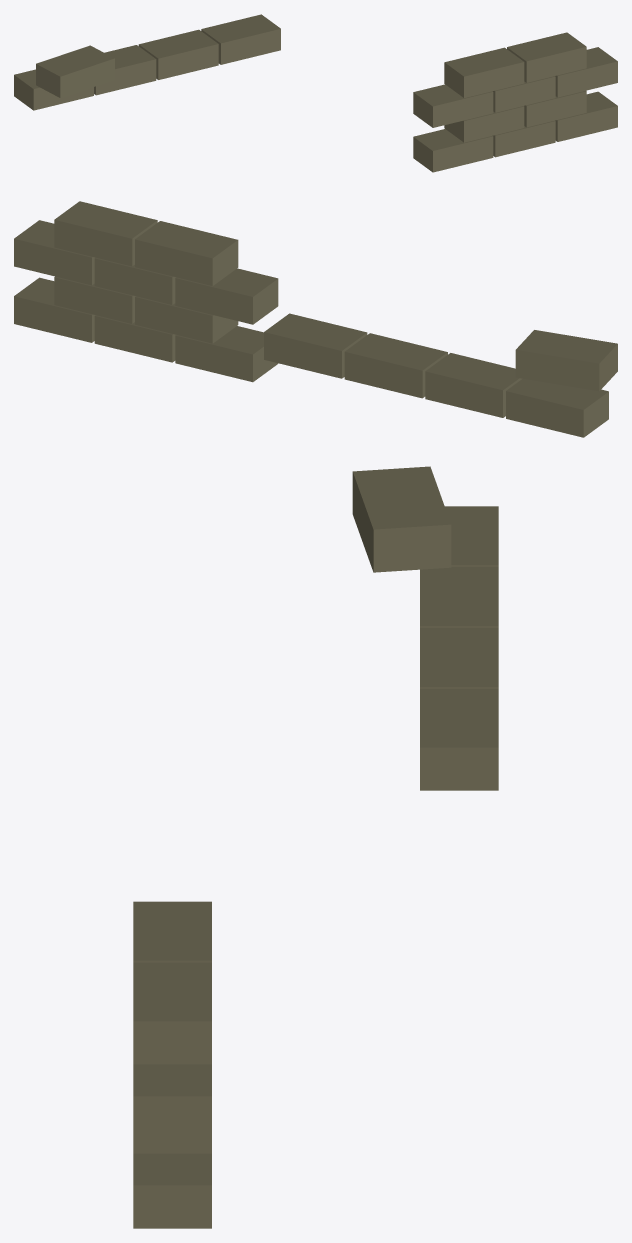
File: SM_ObraSacos_v0_8m_LOD0.fbx
3 renders of one model, top to bottom at view 1: azimuth 30°, elevation 25°; view 2: azimuth 150°, elevation 25°; view 3: azimuth 270°, elevation 25°, orthographic. The views are drawn at different scales.
Parts seen in each view (by area): view 1: SM_obra_curso_v0_LOD0; view 2: SM_obra_curso_v0_LOD0; view 3: SM_obra_curso_v0_LOD0.
Part boxes in pixels (<box>): SM_obra_curso_v0_LOD0: <box>14,14,617,172</box>; SM_obra_curso_v0_LOD0: <box>14,201,617,437</box>; SM_obra_curso_v0_LOD0: <box>133,466,498,1228</box>.
Size of the model in its own units: 7.23 by 1.79 by 2.23.
